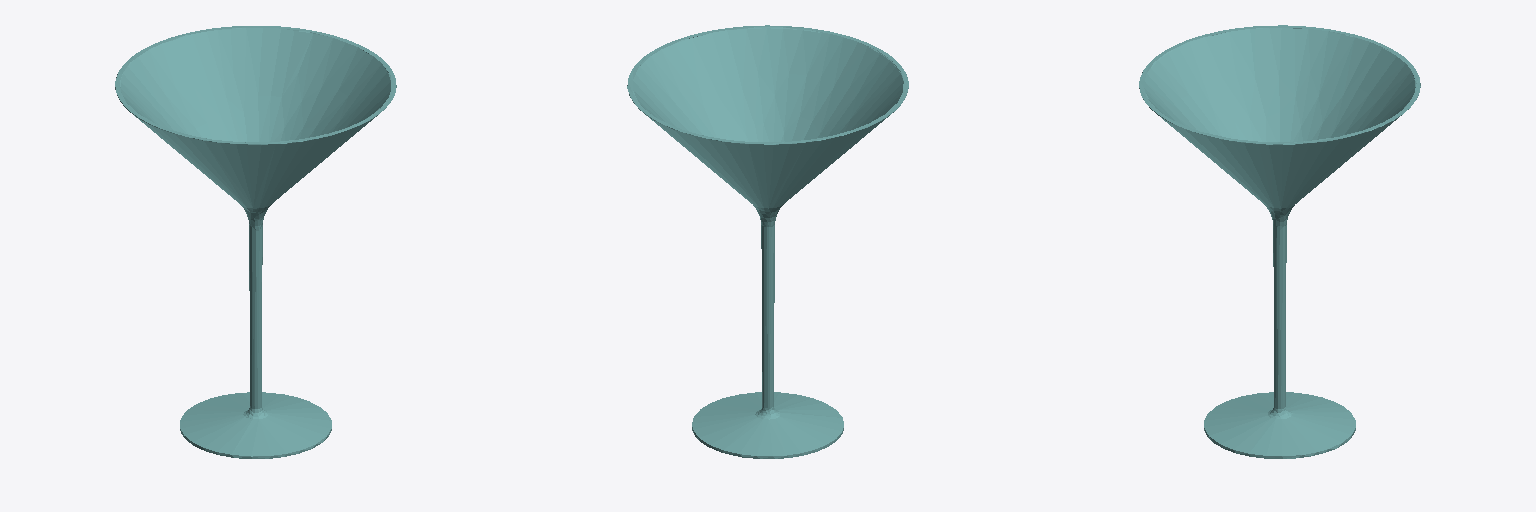
Rendered from martini_glass.obj.
3 renders of one model, left to right at view 1: azimuth 30°, elevation 25°; view 2: azimuth 150°, elevation 25°; view 3: azimuth 270°, elevation 25°, orthographic.
Parts seen in each view (by area): view 1: Line72; view 2: Line72; view 3: Line72.
Boxes of the visible parts, x1=… form: Line72: x1=115, y1=26, x2=396, y2=458; Line72: x1=627, y1=25, x2=908, y2=458; Line72: x1=1139, y1=25, x2=1420, y2=458.
Size of the model in its own units: 0.5294 by 0.7102 by 0.5291.